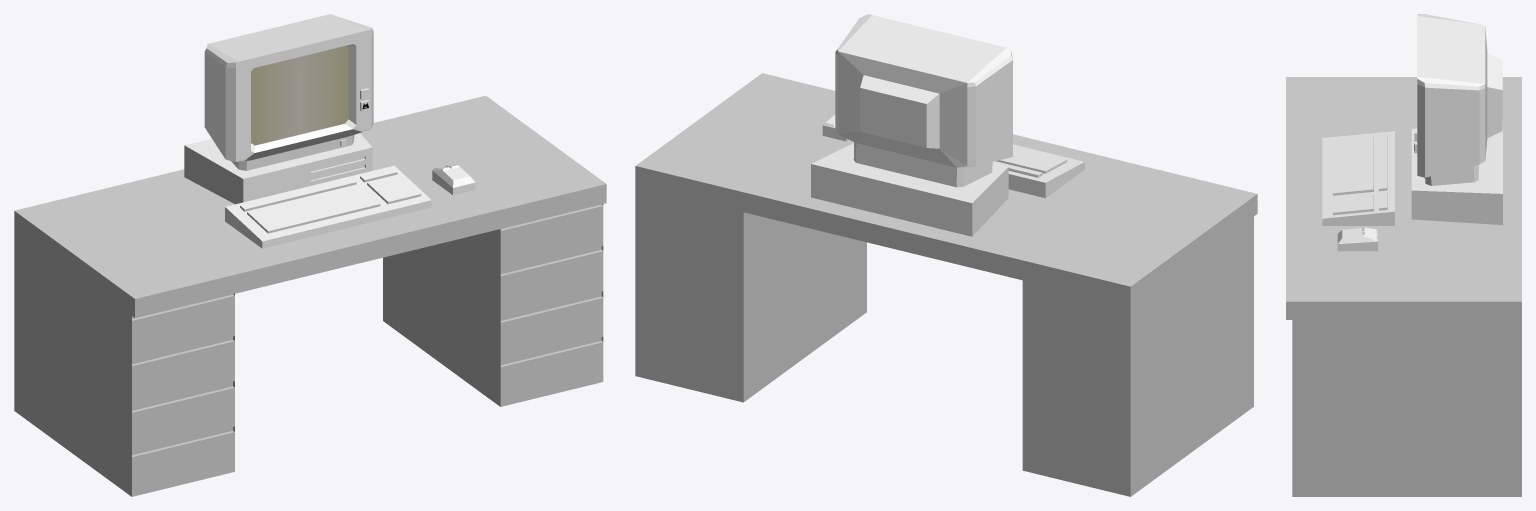
The model's file is final-computer-model.gltf.
3 renders of one model, left to right at view 1: azimuth 30°, elevation 25°; view 2: azimuth 150°, elevation 25°; view 3: azimuth 270°, elevation 25°, orthographic. The views are drawn at different scales.
Parts seen in each view (by area): view 1: table, computer, keyboard, screen, desktop, mouse; view 2: table, computer, desktop, keyboard; view 3: table, computer, keyboard, desktop, mouse.
Part boxes in pixels (x1=…): table: x1=14, y1=95, x2=606, y2=496; computer: x1=204, y1=14, x2=373, y2=170; keyboard: x1=225, y1=165, x2=431, y2=248; screen: x1=251, y1=46, x2=348, y2=145; desktop: x1=184, y1=133, x2=372, y2=204; mouse: x1=432, y1=163, x2=475, y2=195; table: x1=635, y1=73, x2=1257, y2=496; computer: x1=835, y1=14, x2=1012, y2=187; desktop: x1=811, y1=143, x2=1008, y2=236; keyboard: x1=992, y1=144, x2=1084, y2=198; table: x1=1286, y1=77, x2=1521, y2=496; computer: x1=1417, y1=14, x2=1502, y2=185; keyboard: x1=1322, y1=131, x2=1394, y2=225; desktop: x1=1411, y1=121, x2=1502, y2=224; mouse: x1=1337, y1=227, x2=1377, y2=251.
Size of what is drawn, in the model's own units: 13.72 by 9.64 by 6.09.
